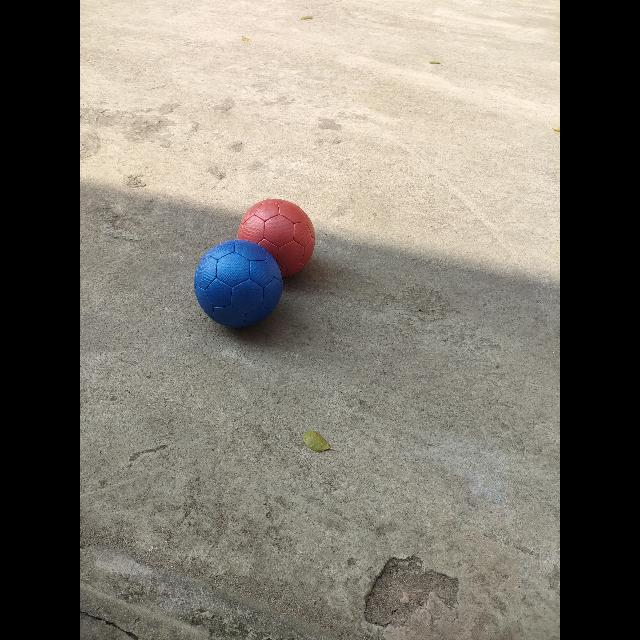B: (194, 240, 282, 328)
R: (238, 199, 315, 278)
